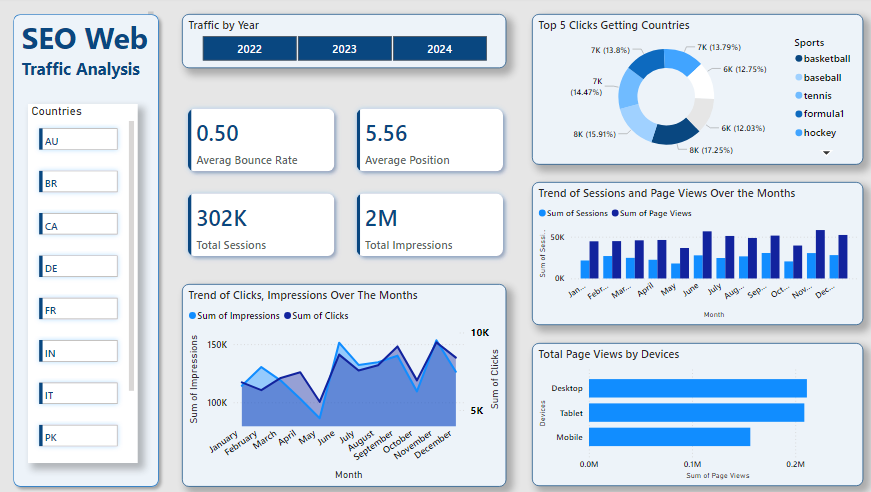

The dashboard page shown, as its layout file describes it:
{"tool":"powerbi","page":{"name":"Page 1","canvas":[1280,720],"ordinal":0},"visuals":[{"type":"cardVisual","fields":{"Data":["Avg(Sheet1.Bounce Rate)","Avg(Sheet1.Average Position)","Sum(Sheet1.Sessions)","Sum(Sheet1.Impressions)"]},"box":[260.6,144,489.6,247.7],"z":0},{"type":"textbox","box":[27.4,15.8,205.9,148.3],"z":1000},{"type":"areaChart","title":"Trend of Clicks, Impressions Over The Months","fields":{"Category":["Sheet1.Date.Variation.Date Hierarchy.Month"],"Y":["Sum(Sheet1.Impressions)"],"Y2":["Sum(Sheet1.Clicks)"]},"box":[269.3,413.3,466.6,292.3],"z":2000},{"type":"shape","box":[17.3,15.8,227.5,698.4],"z":3000},{"type":"textbox","box":[33.1,24.5,223.2,128.2],"z":4000},{"type":"lineClusteredColumnComboChart","title":"Trend of Sessions and Page Views Over the Months","fields":{"Category":["Sheet1.Date.Variation.Date Hierarchy.Month"],"Y":["Sum(Sheet1.Sessions)","Sum(Sheet1.Page Views)"]},"box":[773.3,266.4,476.6,205.9],"z":5000},{"type":"advancedSlicerVisual","title":"Countries","fields":{"Values":["Sheet1.Country"]},"box":[47.5,154.1,158.4,517],"z":6000},{"type":"slicer","title":"Traffic by Year","fields":{"Values":["Sheet1.Date.Variation.Date Hierarchy.Year"]},"box":[269.3,24.5,466.6,77.8],"z":7000},{"type":"donutChart","title":"Top 5 Clicks Getting Countries","fields":{"Y":["Sum(Sheet1.Clicks)"],"Category":["Sheet1.Sports"]},"box":[773.3,24.5,476.6,217.4],"z":8000},{"type":"barChart","title":"Total Page Views by Devices","fields":{"Category":["Sheet1.Devices"],"Y":["Sum(Sheet1.Page Views)"]},"box":[773.3,498.2,476.6,205.9],"z":9000}]}

Visuals, with their boxes in screenshot pixels (x1, y1, x2, y2), scaled from the page's 1280x720 canvas onto the 871x492 screenshot:
cardVisual - Avg(Sheet1.Bounce Rate) x Avg(Sheet1.Average Position): box=[177, 98, 510, 268]
textbox: box=[19, 11, 159, 112]
"Trend of Clicks, Impressions Over The Months" areaChart: box=[183, 282, 501, 482]
shape: box=[12, 11, 167, 488]
textbox: box=[23, 17, 174, 104]
"Trend of Sessions and Page Views Over the Months" lineClusteredColumnComboChart: box=[526, 182, 851, 323]
"Countries" advancedSlicerVisual: box=[32, 105, 140, 459]
"Traffic by Year" slicer: box=[183, 17, 501, 70]
"Top 5 Clicks Getting Countries" donutChart: box=[526, 17, 851, 165]
"Total Page Views by Devices" barChart: box=[526, 340, 851, 481]
